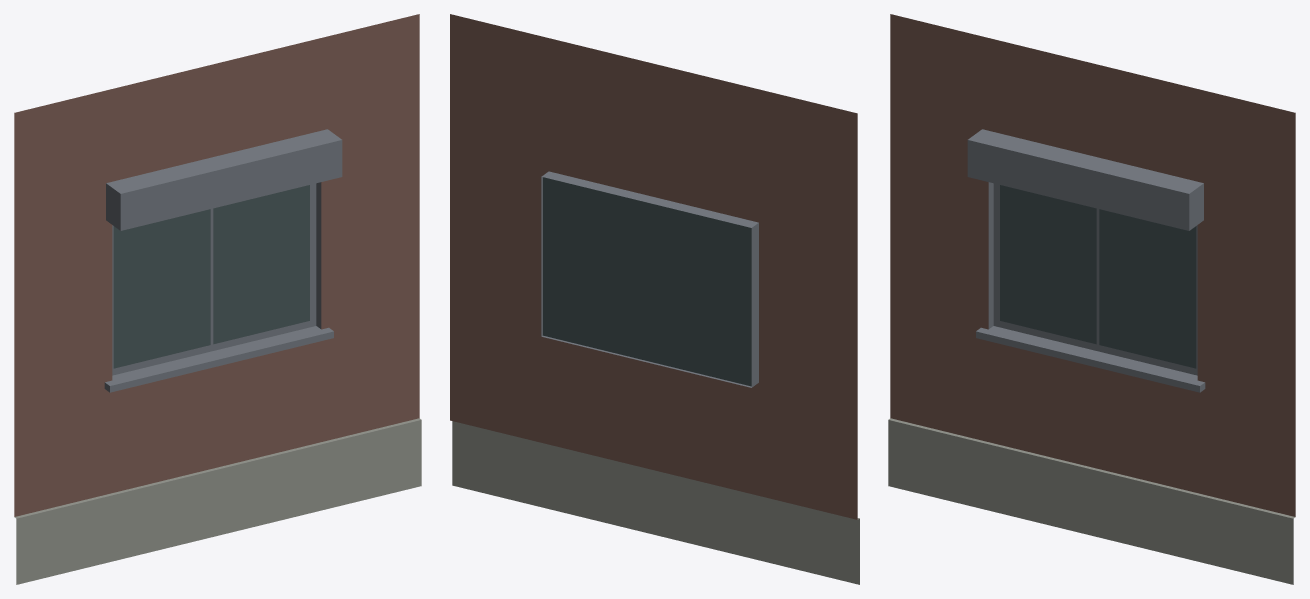
The picture shows the model from 3 angles, left to right: view 1: azimuth 30°, elevation 25°; view 2: azimuth 150°, elevation 25°; view 3: azimuth 330°, elevation 25°; orthographic projection.
Visible parts, largest first — view 1: a2000s2/0/base-w1; view 2: a2000s2/0/base-w1; view 3: a2000s2/0/base-w1.
Part boxes in pixels (x1=…): a2000s2/0/base-w1: x1=14, y1=14, x2=421, y2=584; a2000s2/0/base-w1: x1=450, y1=14, x2=859, y2=584; a2000s2/0/base-w1: x1=888, y1=14, x2=1295, y2=584.
Size of the model in its own units: 3.2 by 3.55 by 0.3.
